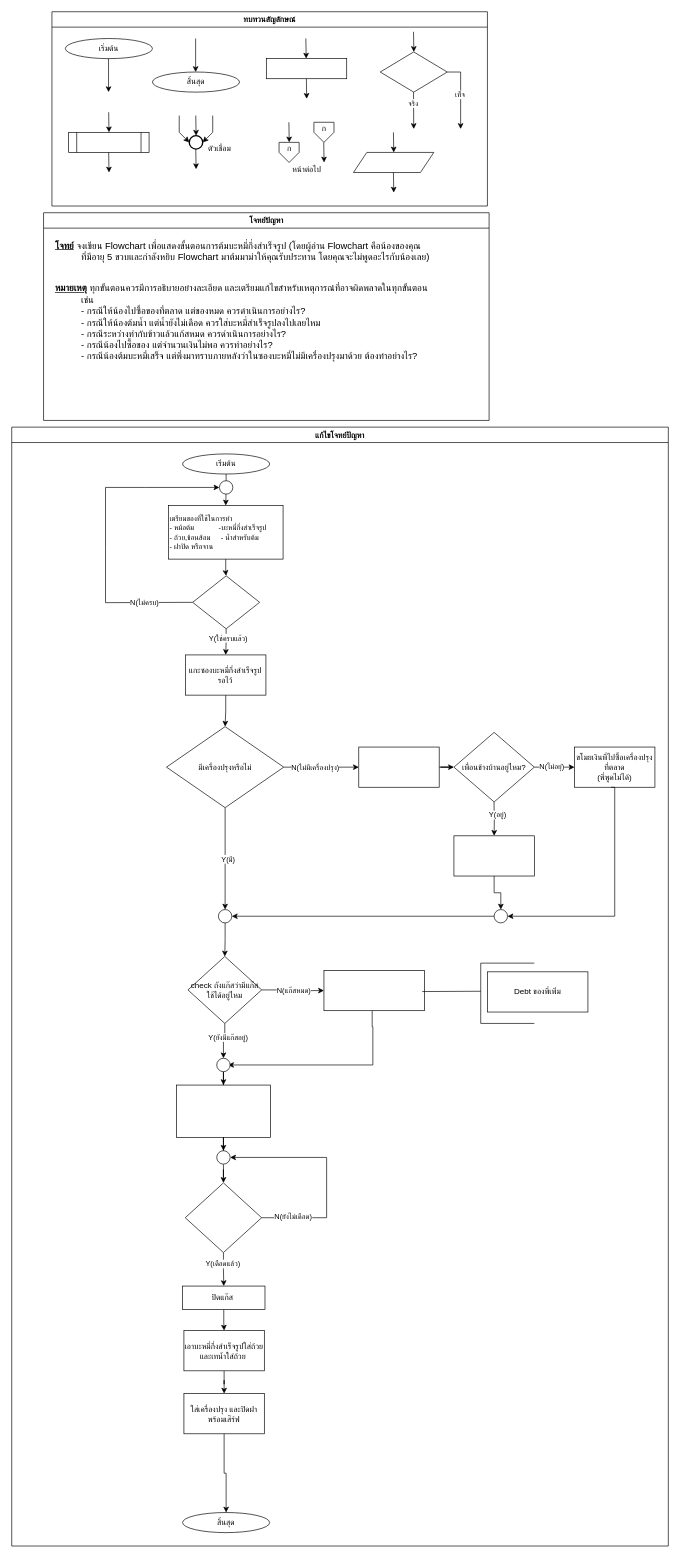
Image size: 680x1558. Some labels were removed from this diagram. Each missing label, with the box of its shape:
check น้ำที่ต้มเดือดแล้วหรือไม่?: (185, 1182, 262, 1253)
กระบวนการ: (266, 58, 347, 79)
ขอเครื่องปรุจากเพื่อนข้างบ้าน: (453, 835, 534, 876)
ประโยคเงื่อนไข: (380, 51, 447, 92)
ฟังก์ชัน/โมดูล: (68, 132, 149, 152)
เตรียมของครบ ใช่ไหม?: (192, 575, 260, 629)
เติมน้ำใส่หม้อ เท่าที่จะใช้ และเปิดแก๊สจากนั้นต้มน้ำ: (176, 1084, 270, 1137)
แสดงผล/รับค่า: (353, 152, 434, 173)
โทรสั่งถังแก๊สมาให้ใหม่ เดี๋ยวให้พี่จ่ายตังทีหลัง: (323, 970, 424, 1011)
ไปขอเพื่อนข้างบ้าน: (358, 746, 439, 787)
